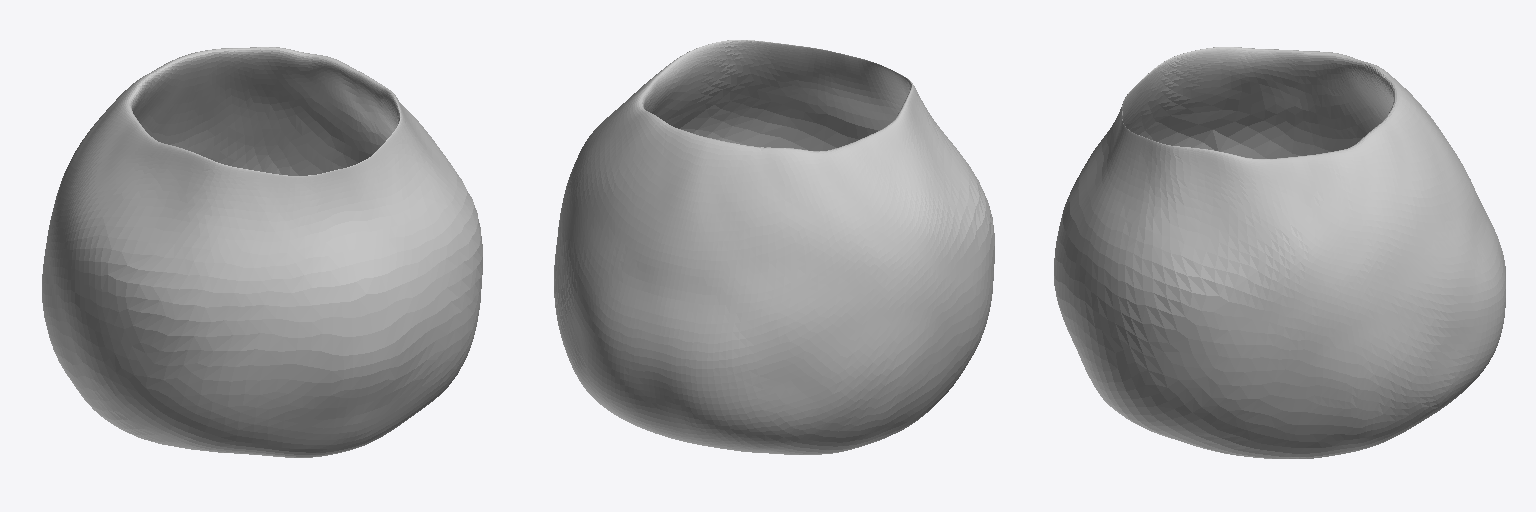
File: fishbowl.2.obj
The picture shows the model from 3 angles: view 1: azimuth 30°, elevation 25°; view 2: azimuth 150°, elevation 25°; view 3: azimuth 270°, elevation 25°; orthographic projection.
Parts seen in each view (by area): view 1: ZBrush_defualt_group; view 2: ZBrush_defualt_group; view 3: ZBrush_defualt_group.
Part boxes in pixels (x1,y1,x2,y2): ZBrush_defualt_group: (42,47,482,457); ZBrush_defualt_group: (554,40,994,454); ZBrush_defualt_group: (1054,47,1505,458).
Size of the model in its own units: 219 by 178 by 228.